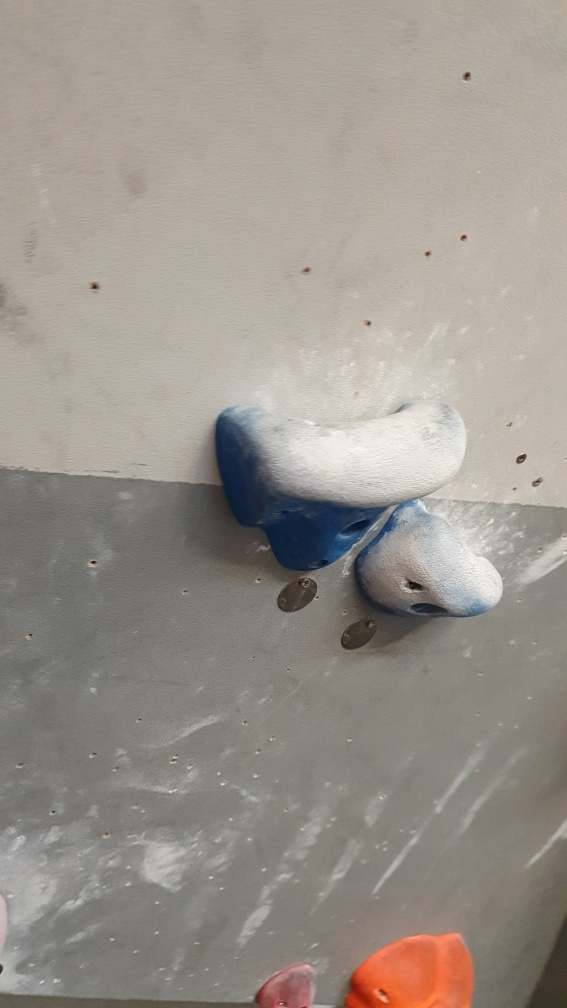Hand Start: (275, 570, 324, 619), (337, 612, 386, 652)
Jug: (212, 394, 475, 574), (353, 487, 512, 628)
